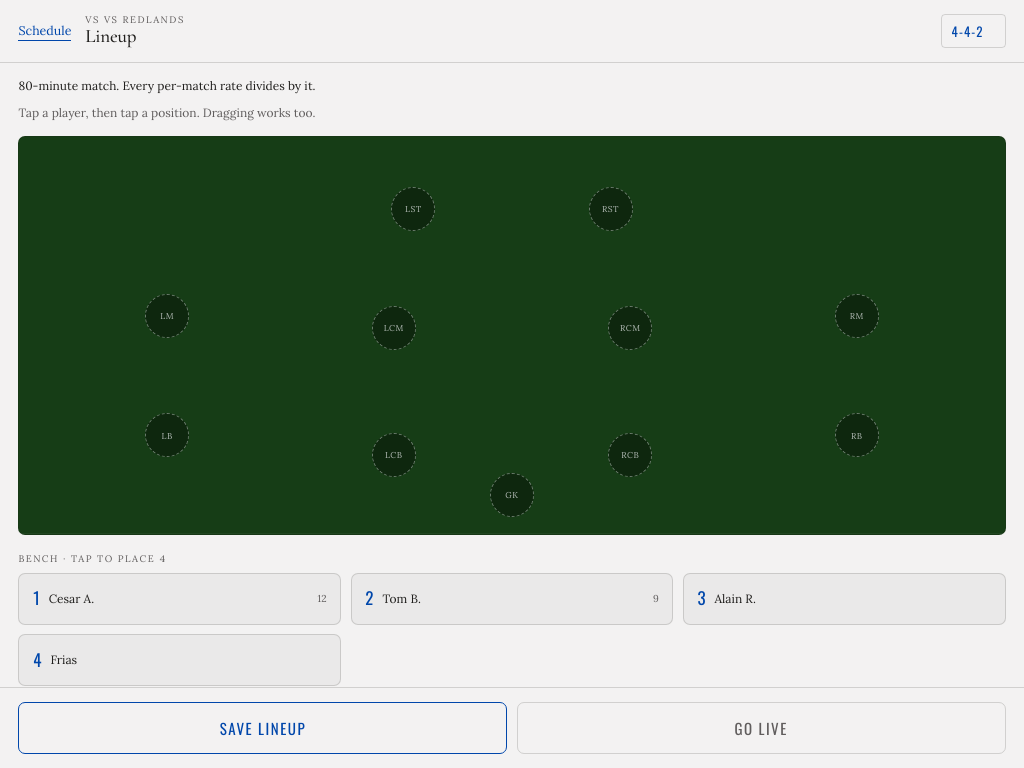
Test: saving › reports a refusal in the database's words and stays open
Click the button "Save lineup".
click(263, 728)  # box [18,702,507,754]
(page scrolled)
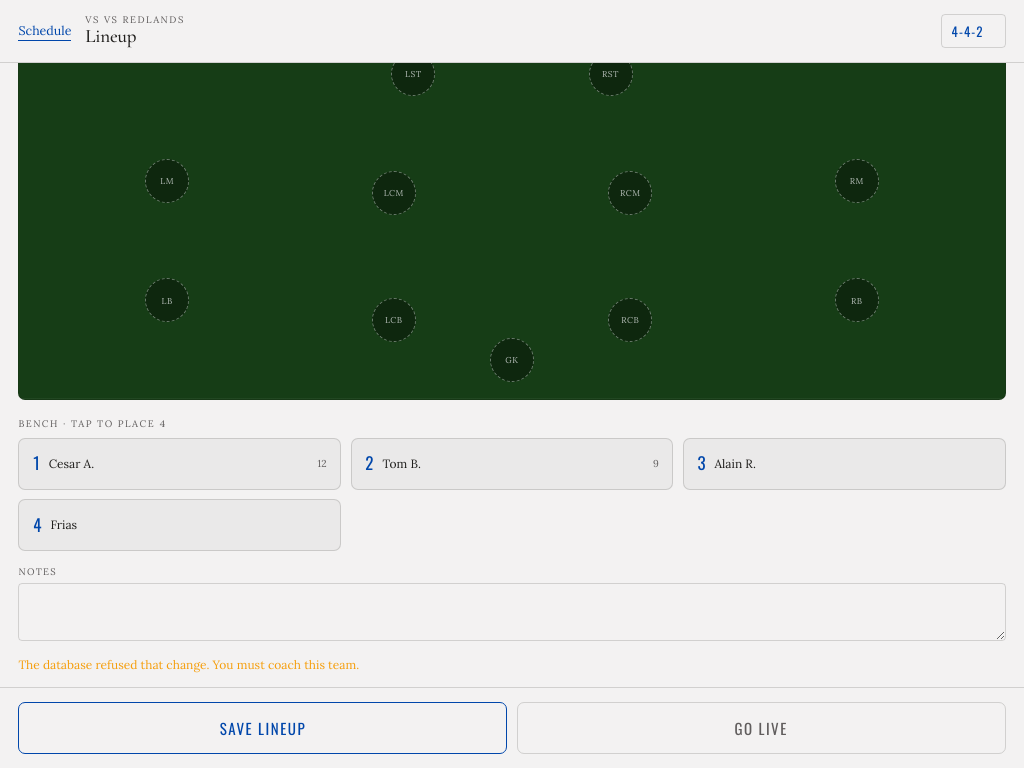
Expected: the message "The database refused that change. You must coach this team." is shown, [18,657,359,672]
